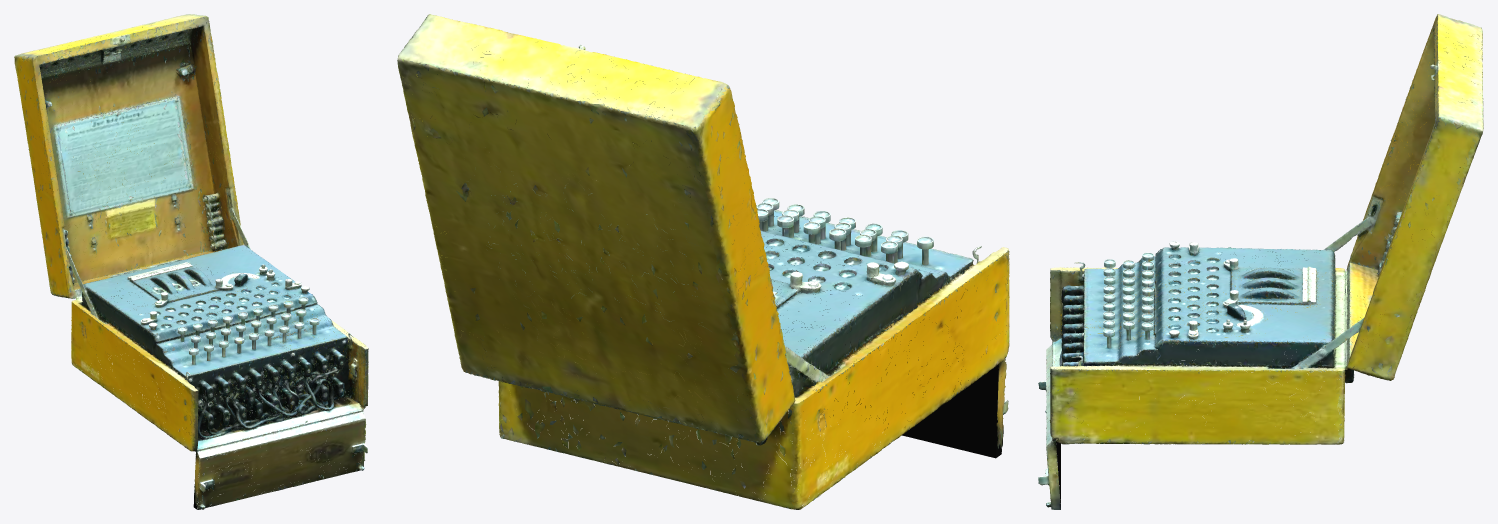
File: enigma-transformed.glb
3 views of the same model, side by side, from view 1: azimuth 30°, elevation 25°; view 2: azimuth 150°, elevation 25°; view 3: azimuth 270°, elevation 25° (orthographic). The views are drawn at different scales.
Visible parts, largest first — view 1: Object_3, Object_4, Object_5, Object_6, Object_7; view 2: Object_4, Object_3, Object_5, Object_7, Object_6, Object_8; view 3: Object_3, Object_4, Object_6, Object_5, Object_7.
Part boxes in pixels (x1=…): Object_3: x1=33, y1=14, x2=368, y2=509; Object_4: x1=14, y1=22, x2=367, y2=509; Object_5: x1=73, y1=274, x2=339, y2=502; Object_6: x1=34, y1=162, x2=368, y2=505; Object_7: x1=22, y1=74, x2=367, y2=478; Object_4: x1=402, y1=42, x2=1008, y2=506; Object_3: x1=397, y1=14, x2=1006, y2=509; Object_5: x1=756, y1=203, x2=1009, y2=488; Object_7: x1=433, y1=107, x2=775, y2=471; Object_6: x1=501, y1=203, x2=1009, y2=508; Object_8: x1=776, y1=303, x2=1003, y2=458; Object_3: x1=1046, y1=24, x2=1483, y2=509; Object_4: x1=1038, y1=14, x2=1483, y2=445; Object_6: x1=1046, y1=136, x2=1418, y2=444; Object_5: x1=1049, y1=241, x2=1323, y2=362; Object_7: x1=1038, y1=47, x2=1473, y2=507.
Bounding box in the file's own units: 19.46 × 34.99 × 35.41.
2 materials, 1 textured.
